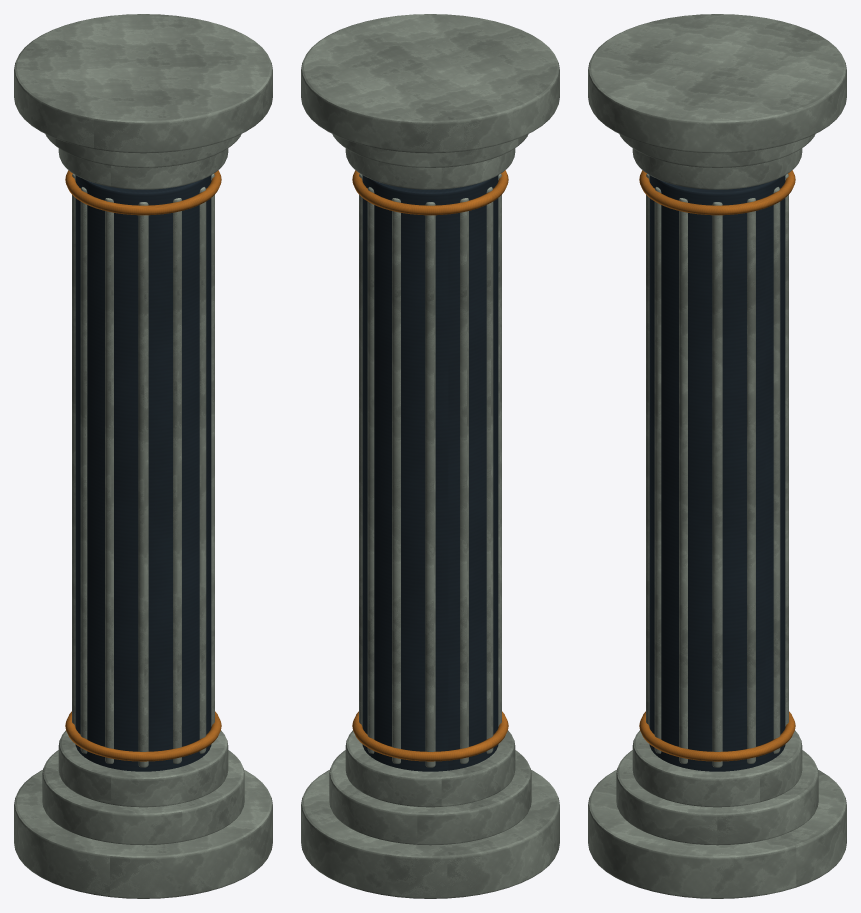
File: column.glb
3 views of the same model, side by side, from view 1: azimuth 30°, elevation 25°; view 2: azimuth 150°, elevation 25°; view 3: azimuth 270°, elevation 25° (orthographic).
Visible parts, largest first — view 1: Veined_marble, Weathered_basalt, Brushed_gold; view 2: Veined_marble, Weathered_basalt, Brushed_gold; view 3: Veined_marble, Weathered_basalt, Brushed_gold.
Boxes of the visible parts, bbox=[...] form: Veined_marble: bbox=[14, 14, 272, 898]; Weathered_basalt: bbox=[75, 175, 211, 771]; Brushed_gold: bbox=[65, 170, 221, 761]; Veined_marble: bbox=[301, 14, 559, 898]; Weathered_basalt: bbox=[362, 175, 498, 771]; Brushed_gold: bbox=[352, 170, 508, 761]; Veined_marble: bbox=[588, 14, 846, 898]; Weathered_basalt: bbox=[649, 175, 785, 771]; Brushed_gold: bbox=[639, 170, 795, 761].
Bounding box in the file's own units: 1.1 × 3.65 × 1.1.
3 materials, 3 textured.
